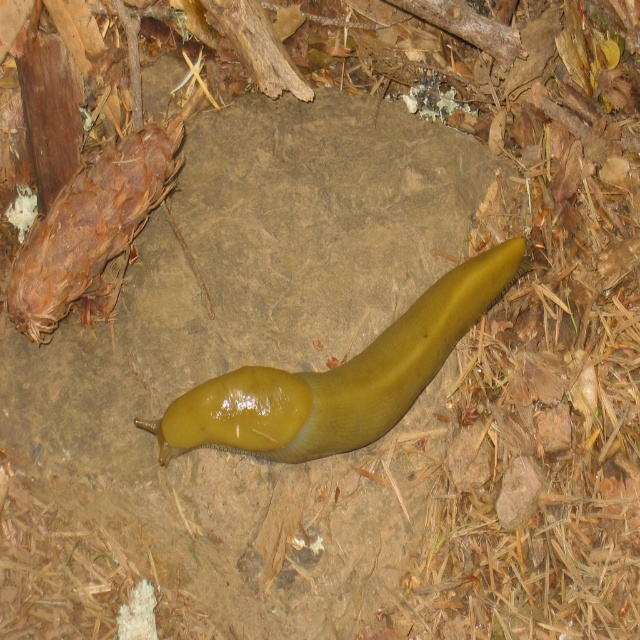Snail: (128, 232, 529, 468)
